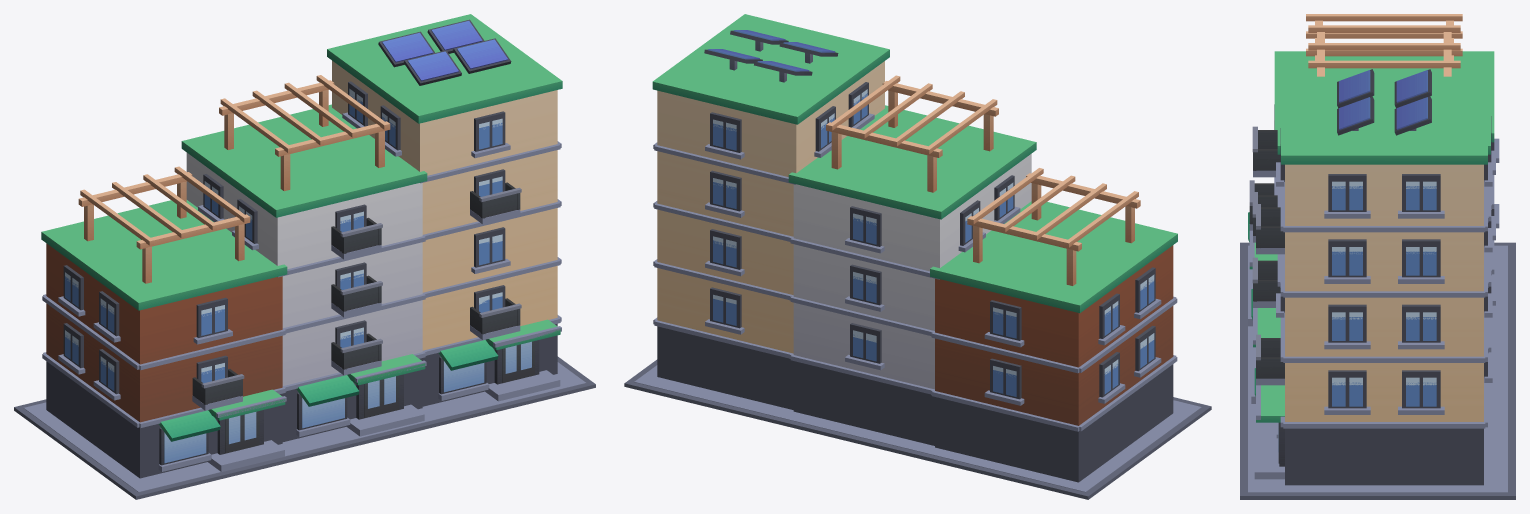
Rendered from res_terrace_lofts_2x1.glb.
3 views of the same model, side by side, from view 1: azimuth 30°, elevation 25°; view 2: azimuth 150°, elevation 25°; view 3: azimuth 270°, elevation 25° (orthographic). The views are drawn at different scales.
Visible parts, largest first — view 1: res_terrace_lofts_2x1; view 2: res_terrace_lofts_2x1; view 3: res_terrace_lofts_2x1.
Part boxes in pixels (x1=…): res_terrace_lofts_2x1: x1=14, y1=14, x2=595, y2=499; res_terrace_lofts_2x1: x1=624, y1=14, x2=1211, y2=499; res_terrace_lofts_2x1: x1=1240, y1=14, x2=1515, y2=499.
Bounding box in the file's own units: 3.74 × 2.46 × 1.72.
Materials: 1 (1 with a texture image).
